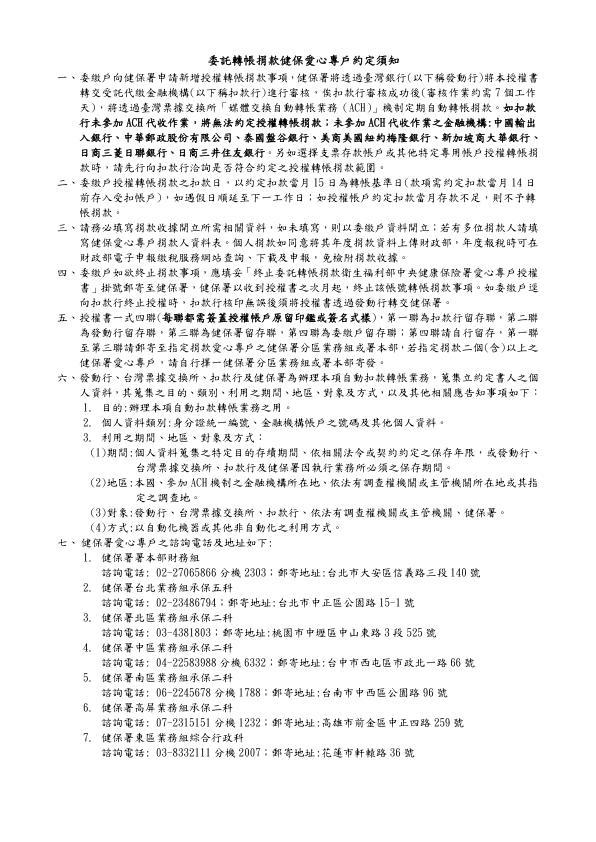text: (56, 538, 495, 767), (55, 371, 545, 534), (55, 72, 550, 174), (53, 312, 543, 367), (54, 220, 546, 264), (55, 177, 544, 219), (55, 267, 541, 309), (200, 50, 404, 69)
